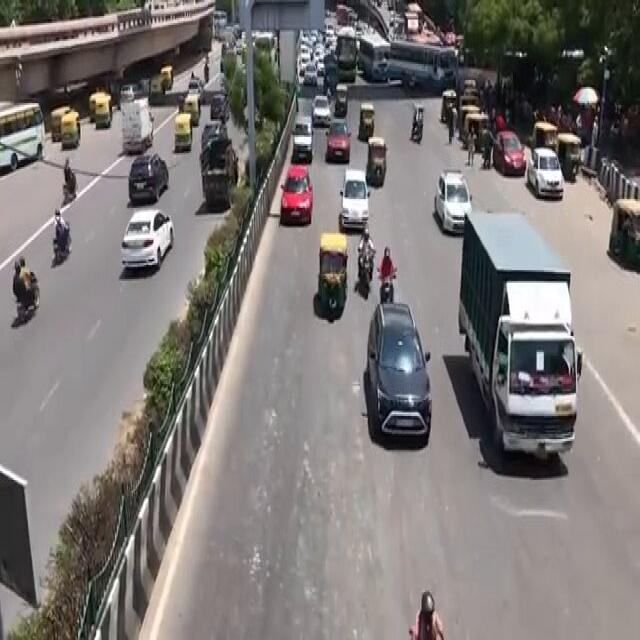three_wheeler: (310, 220, 349, 334)
